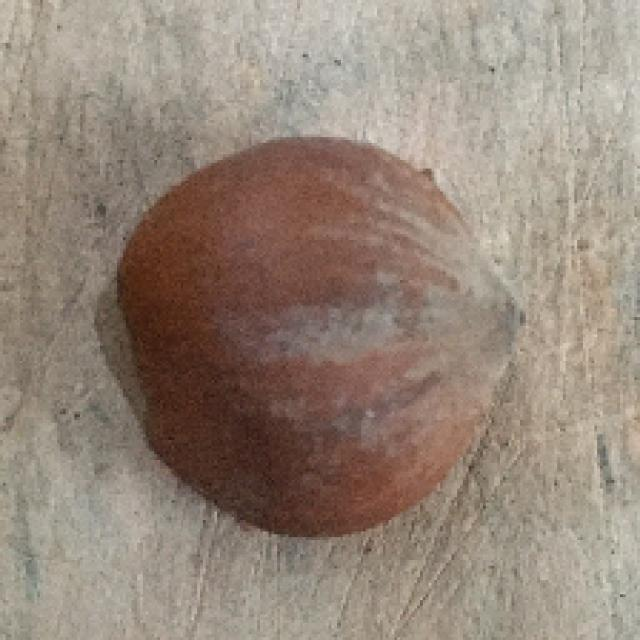qualityHazelnut: (86, 124, 526, 546)
